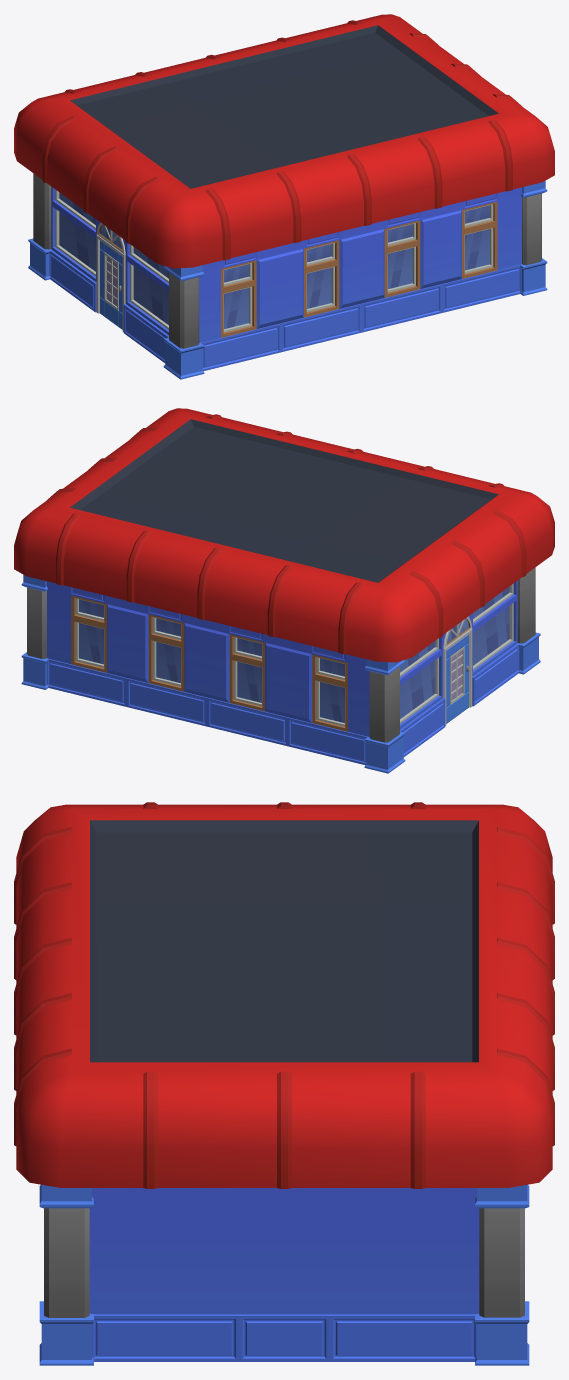
Rendered from Building_12_F.fbx.
3 views of the same model, one above another, from view 1: azimuth 30°, elevation 25°; view 2: azimuth 150°, elevation 25°; view 3: azimuth 270°, elevation 25° (orthographic). The views are drawn at different scales.
Parts seen in each view (by area): view 1: Building_12_F; view 2: Building_12_F; view 3: Building_12_F.
Boxes of the visible parts, bbox=[...] form: Building_12_F: bbox=[14, 14, 554, 379]; Building_12_F: bbox=[14, 408, 554, 773]; Building_12_F: bbox=[14, 802, 554, 1365].
Bounding box in the file's own units: 1053 × 440 × 770.
